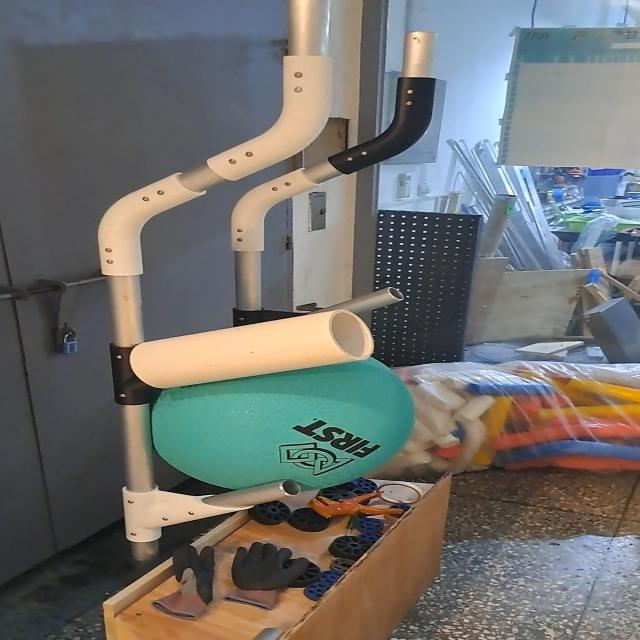ALGAE: (152, 344, 419, 496)
CORAL: (128, 311, 376, 384)
